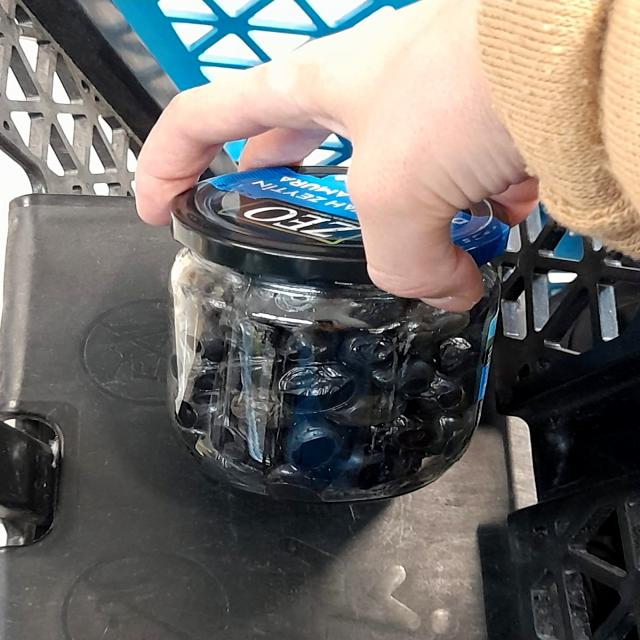olive: (134, 177, 546, 515), (221, 346, 463, 469)
